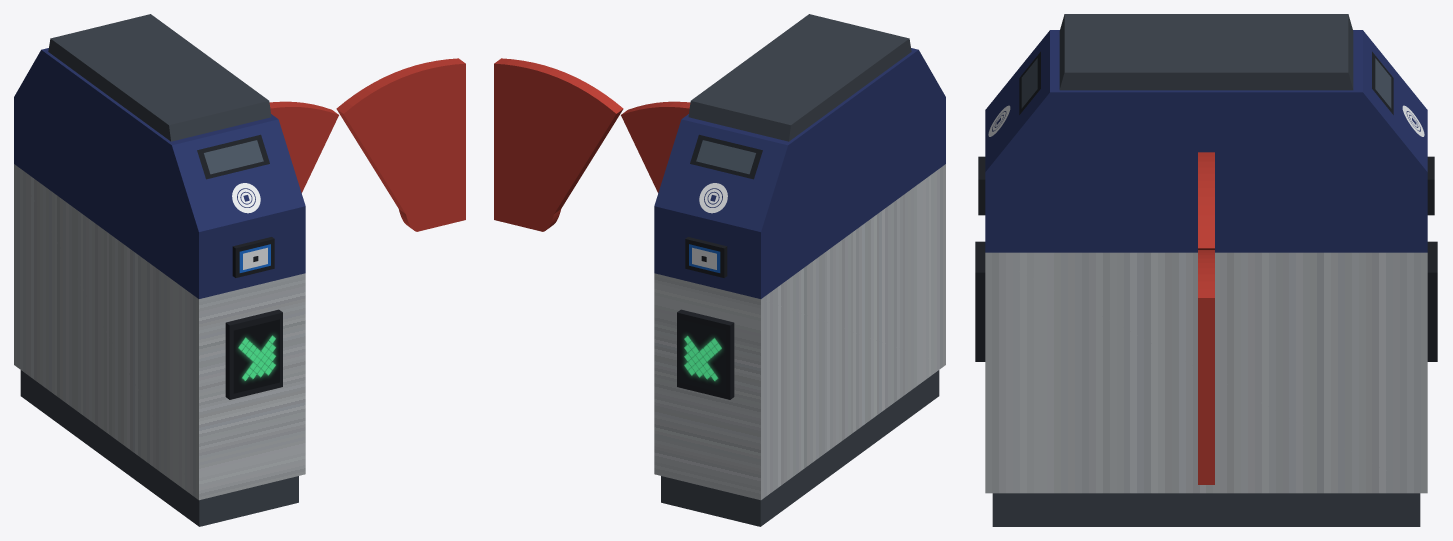
The model's file is gate.glb.
3 views of the same model, side by side, from view 1: azimuth 30°, elevation 25°; view 2: azimuth 150°, elevation 25°; view 3: azimuth 270°, elevation 25° (orthographic). The views are drawn at different scales.
Parts seen in each view (by area): view 1: gate-body, Gate, gate-belt, right-leaf, old-reader-fascia, left-leaf, entry-arrow, reader-sticker; view 2: gate-body, Gate, gate-belt, right-leaf, old-reader-fascia, left-leaf, entry-arrow, reader-sticker; view 3: gate-body, Gate, gate-belt, right-leaf, old-reader-fascia (×2), left-leaf.
Boxes of the visible parts, x1,y1,x2,y2 form: gate-body: (14,164,305,500); Gate: (14,14,305,526); gate-belt: (14,97,305,298); right-leaf: (336,58,465,231); old-reader-fascia: (189,131,288,220); left-leaf: (269,101,338,192); entry-arrow: (233,319,279,393); reader-sticker: (232,183,260,213); gate-body: (654,164,945,500); Gate: (654,14,945,526); gate-belt: (654,97,945,298); right-leaf: (494,58,623,231); old-reader-fascia: (671,131,770,220); left-leaf: (621,101,690,192); entry-arrow: (680,319,726,393); reader-sticker: (699,183,727,213); gate-body: (985,252,1427,493); Gate: (975,14,1437,526); gate-belt: (985,172,1427,252); right-leaf: (1198,250,1214,484); old-reader-fascia (×2): (990,46,1422,155); left-leaf: (1198,152,1214,249).
Bounding box in the file's own units: 1 × 1.02 × 0.944.
Materials: 10 (3 with a texture image).
